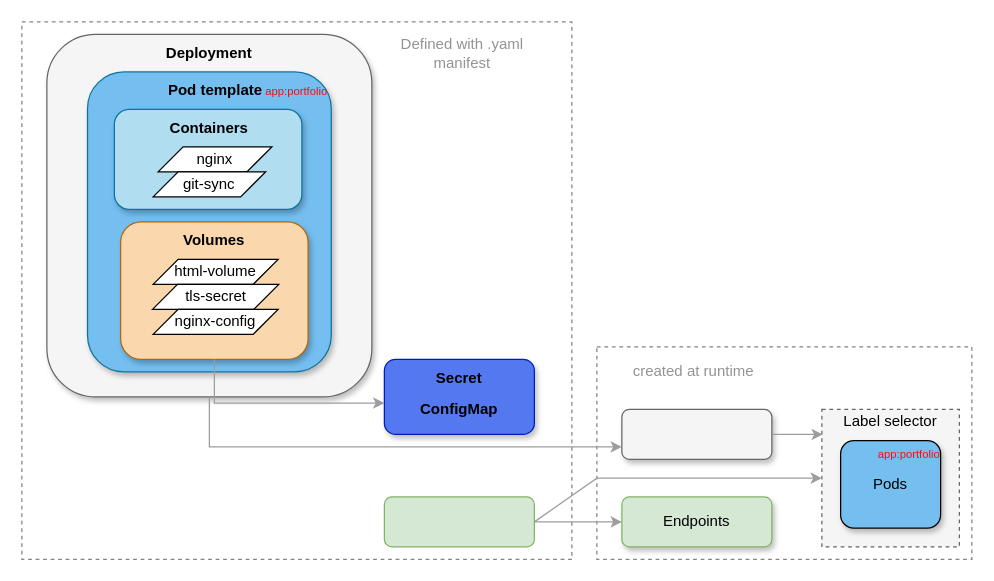
The diagram is 994 pixels wide and 581 high, and some of its shapes have lost their labels. The centre of each missing label's shape, as x and y in pixels:
"ReplicaSet" belongs at (x=697, y=435).
"Service" belongs at (x=458, y=521).
